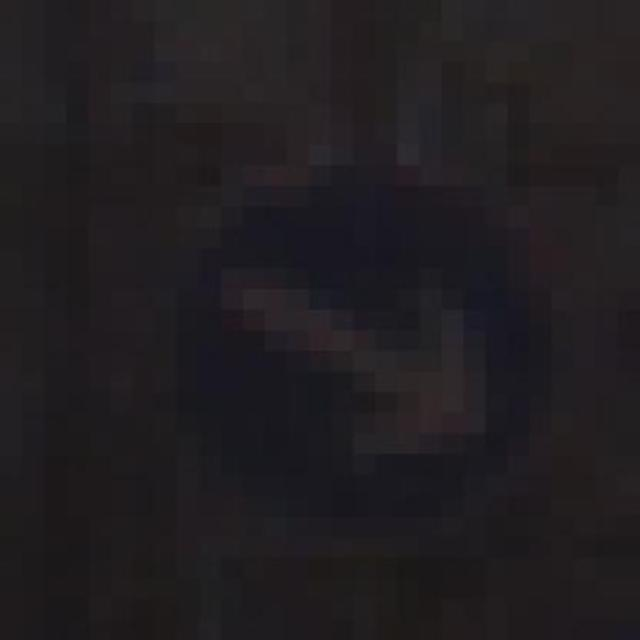Keep-Right: (176, 145, 552, 537)
